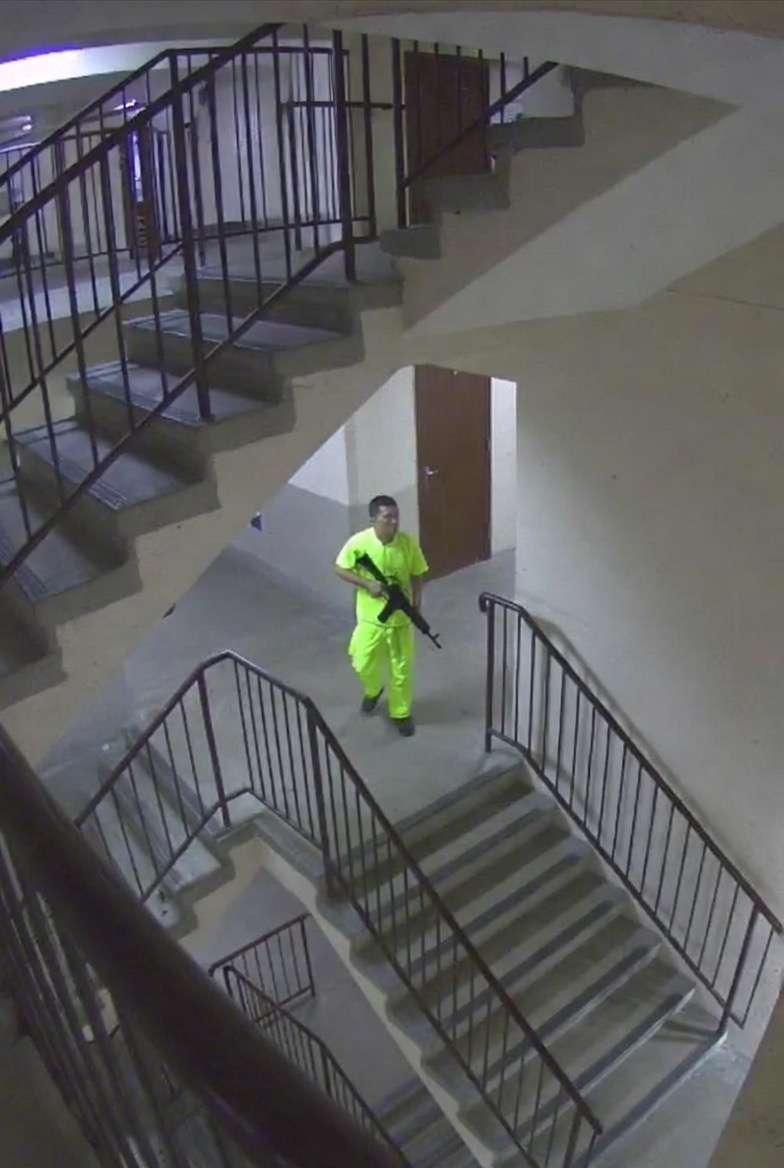gun: (360, 557, 452, 654)
person: (339, 478, 452, 739)
